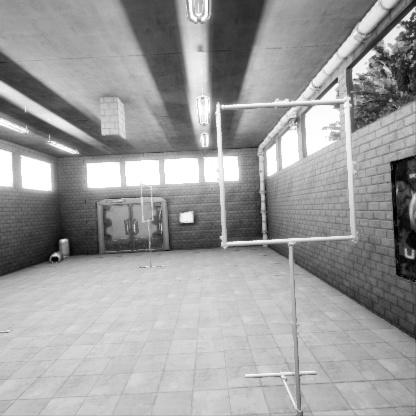gate: (219, 174, 371, 326), (140, 194, 153, 234)
